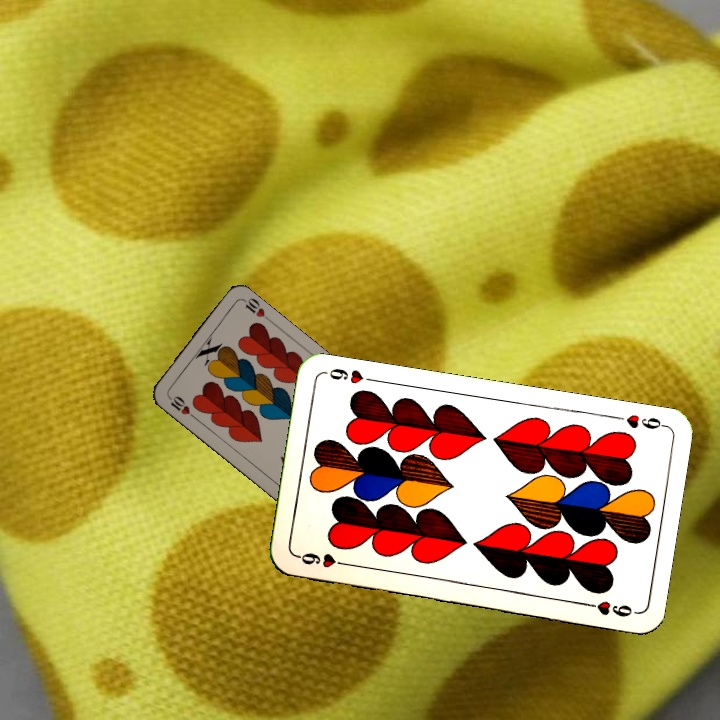H10: (163, 391, 198, 421)
H9: (293, 548, 352, 571), (609, 410, 668, 432)
